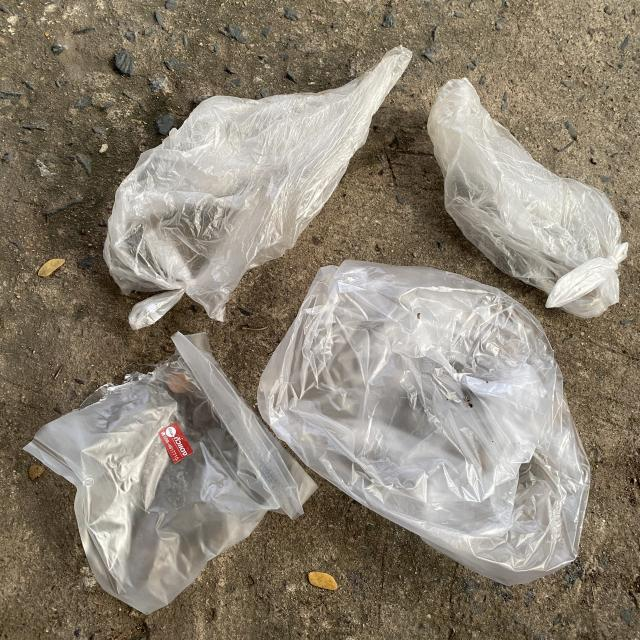Single-layer Plastic: (258, 260, 590, 585), (104, 46, 411, 329), (25, 332, 316, 614), (428, 79, 628, 318)
